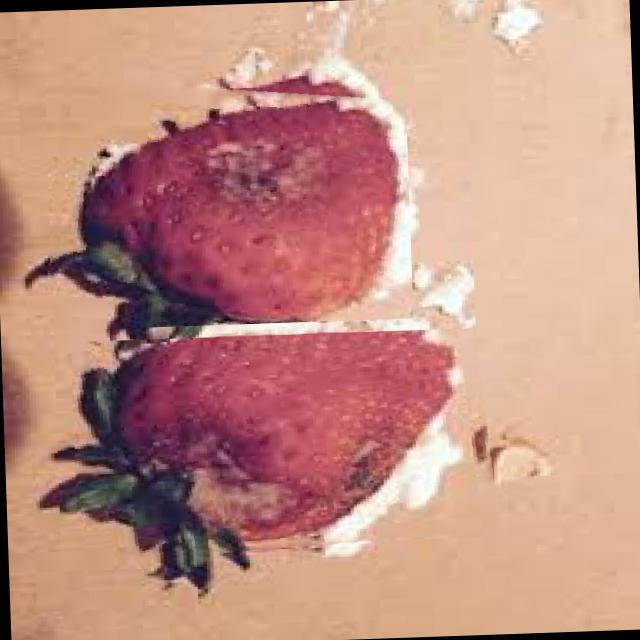Organic: (70, 326, 500, 565), (35, 66, 413, 330)
